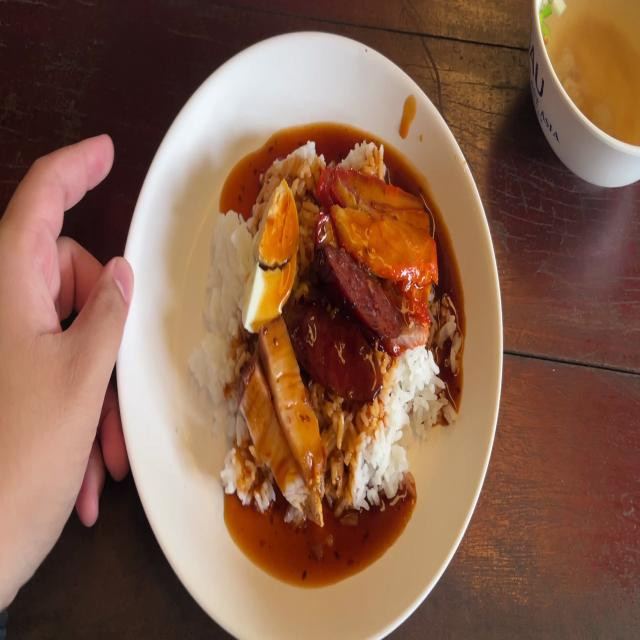01boiled_egg: (250, 183, 292, 323)
01chainese_sausage: (297, 238, 393, 392)
01crispy_pork: (251, 328, 319, 506)
01red_pork: (333, 170, 434, 278)
01red_pork_and_crispy_pork: (195, 150, 451, 534)
01rice: (200, 211, 253, 440), (359, 372, 444, 509)
